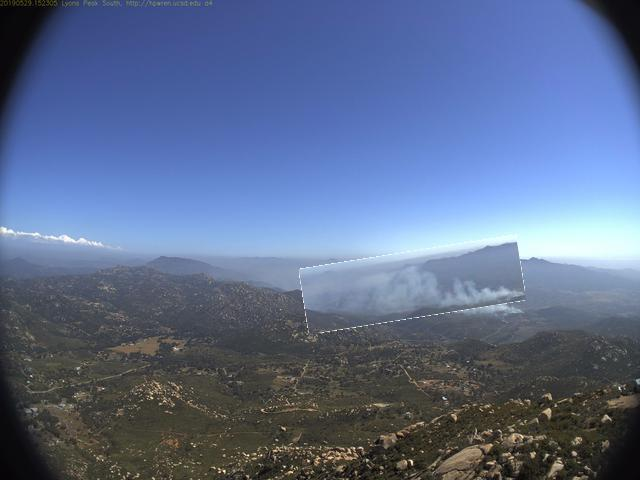smoke: (302, 245, 526, 327)
